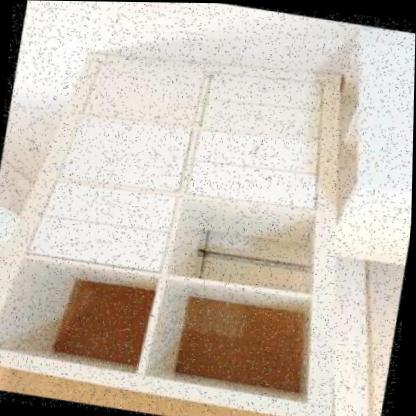Shelf: (0, 30, 393, 416)
